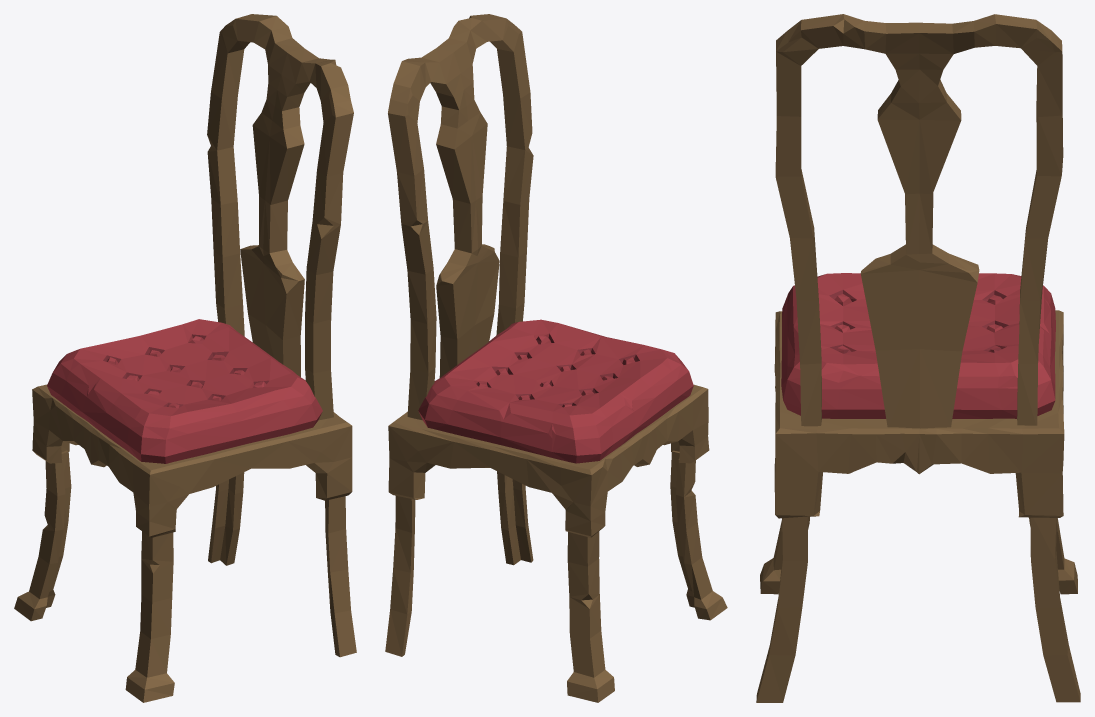
Rendered from SFI_FChair.fbx.
The picture shows the model from 3 angles, left to right: view 1: azimuth 30°, elevation 25°; view 2: azimuth 150°, elevation 25°; view 3: azimuth 270°, elevation 25°; orthographic projection. The views are drawn at different scales.
Parts seen in each view (by area): view 1: SFI_FChair; view 2: SFI_FChair; view 3: SFI_FChair.
Boxes of the visible parts, left/top/right/bottom form: SFI_FChair: left=14, top=14, right=356, bottom=702; SFI_FChair: left=385, top=14, right=727, bottom=702; SFI_FChair: left=756, top=14, right=1080, bottom=702.
Size of the model in its own units: 56 by 129 by 54.97.
